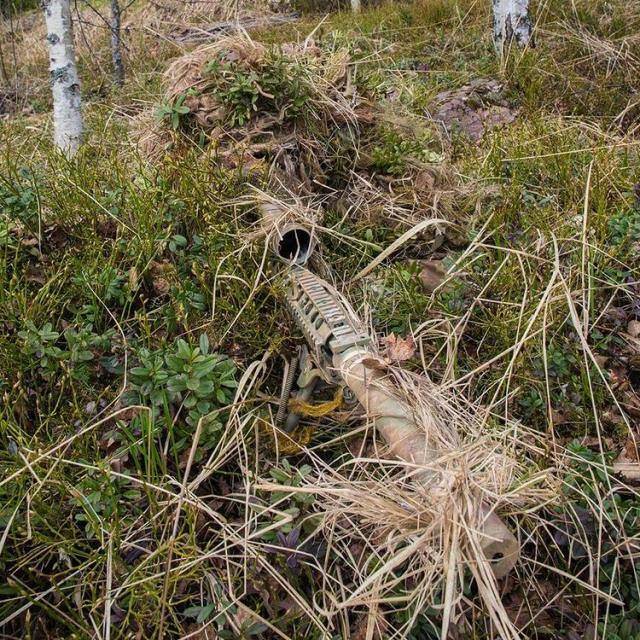Camouflage: (116, 33, 523, 582)
